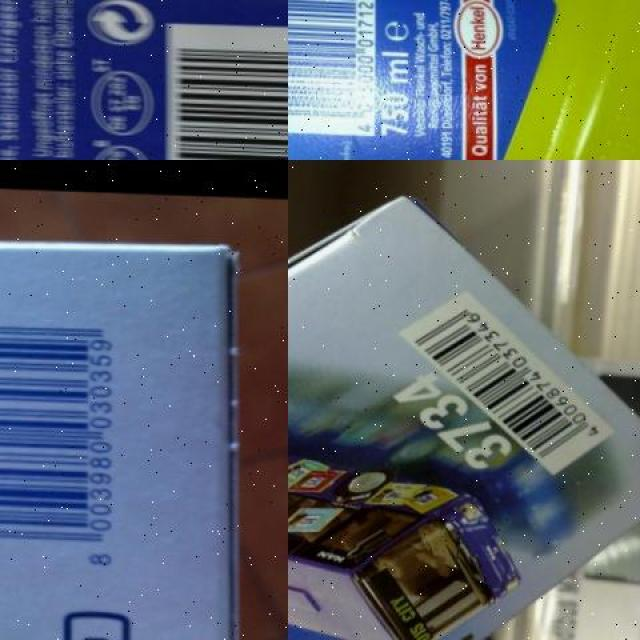Barcode: (396, 286, 617, 474), (0, 304, 131, 572), (161, 16, 288, 160), (288, 0, 377, 131)
